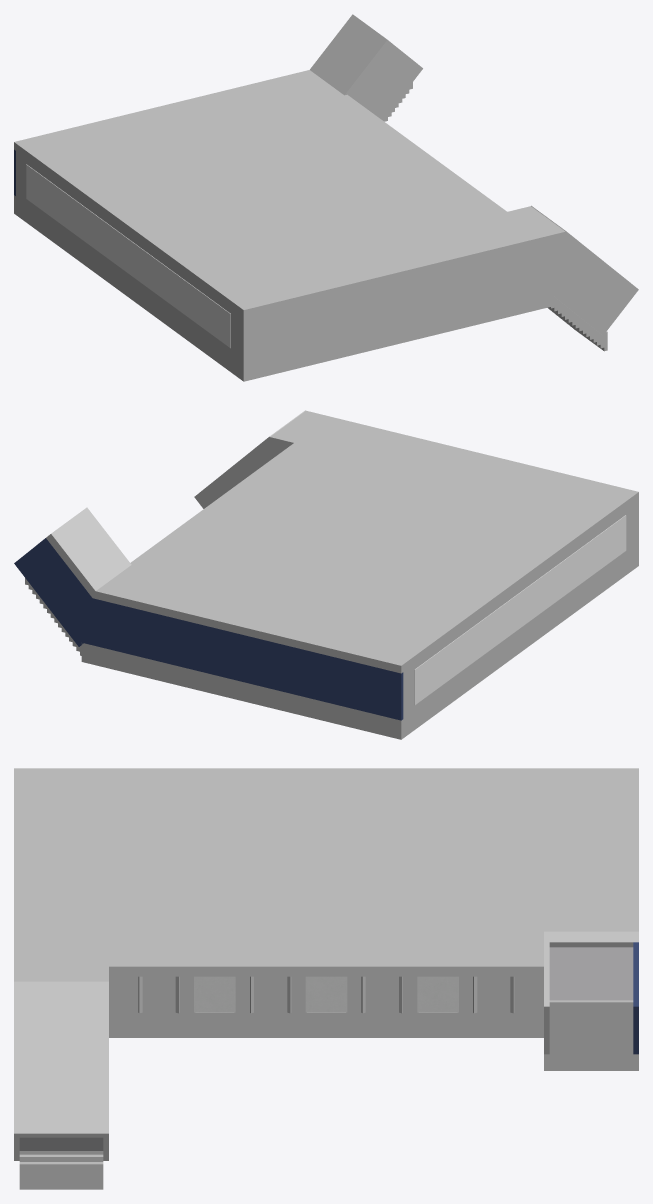
The model's file is 1ST_LEVEl_MAIN_LEVEL.fbx.
3 renders of one model, top to bottom at view 1: azimuth 30°, elevation 25°; view 2: azimuth 150°, elevation 25°; view 3: azimuth 270°, elevation 25°, orthographic. The views are drawn at different scales.
Visible parts, largest first — view 1: 1ST LEVEL, MAIN; view 2: 1ST LEVEL, MAIN; view 3: 1ST LEVEL, MAIN.
Part boxes in pixels (x1=…): 1ST LEVEL, MAIN: x1=14, y1=14, x2=638, y2=381; 1ST LEVEL, MAIN: x1=14, y1=410, x2=638, y2=739; 1ST LEVEL, MAIN: x1=14, y1=768, x2=638, y2=1189.
Bounding box in the file's own units: 11134 × 4739 × 11200.
